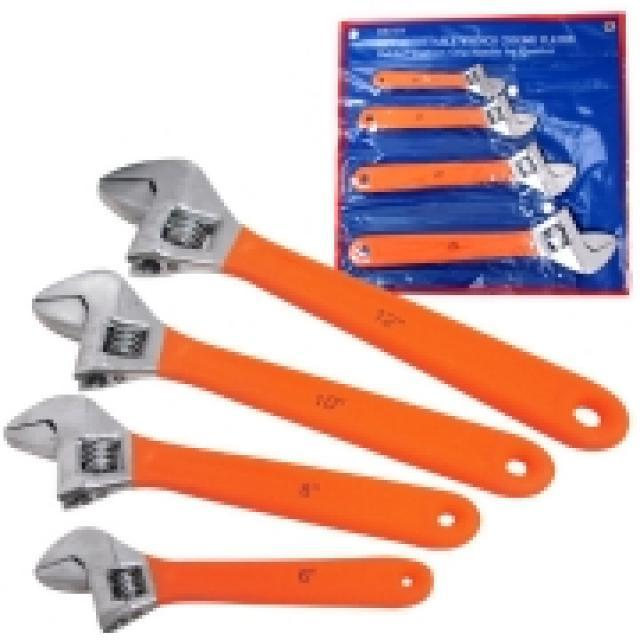wrench: (94, 148, 636, 448), (28, 257, 560, 500), (0, 387, 486, 554), (27, 517, 439, 640), (347, 208, 622, 279), (349, 139, 581, 208), (354, 96, 541, 140), (364, 59, 510, 103)
